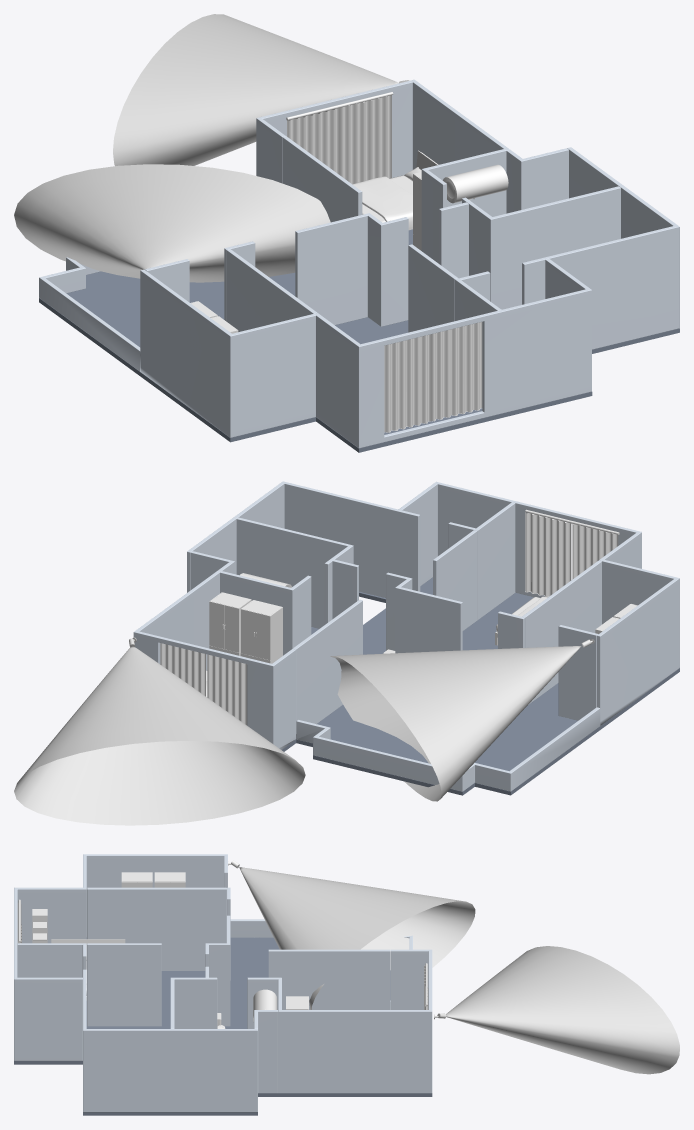
The picture shows the model from 3 angles, top to bottom: view 1: azimuth 30°, elevation 25°; view 2: azimuth 150°, elevation 25°; view 3: azimuth 270°, elevation 25°; orthographic projection. The views are drawn at different scales.
Parts seen in each view (by area): view 1: wall, visualcone1, visualcone2, floor, curtain01.001, curtain02.001, curtain02, others, curtain01, hotwater; view 2: wall, visualcone2, visualcone1, floor, others, curtain01.001, curtain01, curtain02.001, curtain02; view 3: wall, visualcone2, visualcone1, floor, others, hotwater.
Part boxes in pixels (x1,y1,x2,y2): wall: (39,79,679,448); visualcone1: (14,164,330,282); visualcone2: (113,14,398,165); floor: (39,229,679,452); curtain01.001: (431,322,482,421); curtain02.001: (384,334,431,432); curtain02: (339,95,391,184); others: (190,150,438,333); curtain01: (287,108,339,174); hotwater: (443,164,508,203); wall: (133,481,679,791); visualcone2: (14,646,305,825); visualcone1: (330,646,581,801); floor: (282,577,679,795); others: (206,592,637,696); curtain01.001: (525,512,571,596); curtain01: (207,654,247,725); curtain02.001: (572,524,618,579); curtain02: (160,643,205,696); wall: (14,854,432,1112); visualcone2: (446,946,679,1074); visualcone1: (239,867,475,1009); floor: (14,937,432,1115); others: (32,872,308,1009); hotwater: (253,989,277,1021).
Size of the model in its own units: 10.7 by 2.67 by 17.07.
